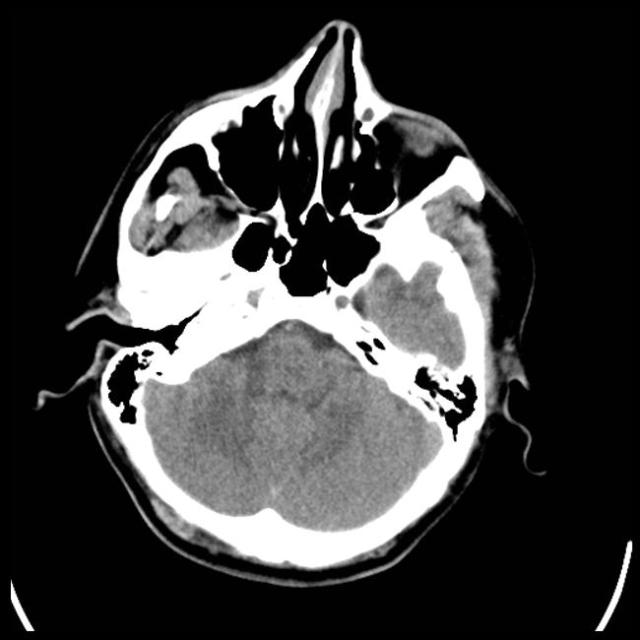lesion: (41, 18, 546, 590)
